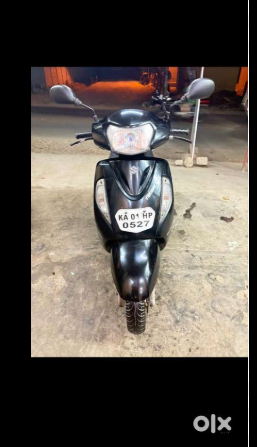licence: (116, 207, 155, 229)
